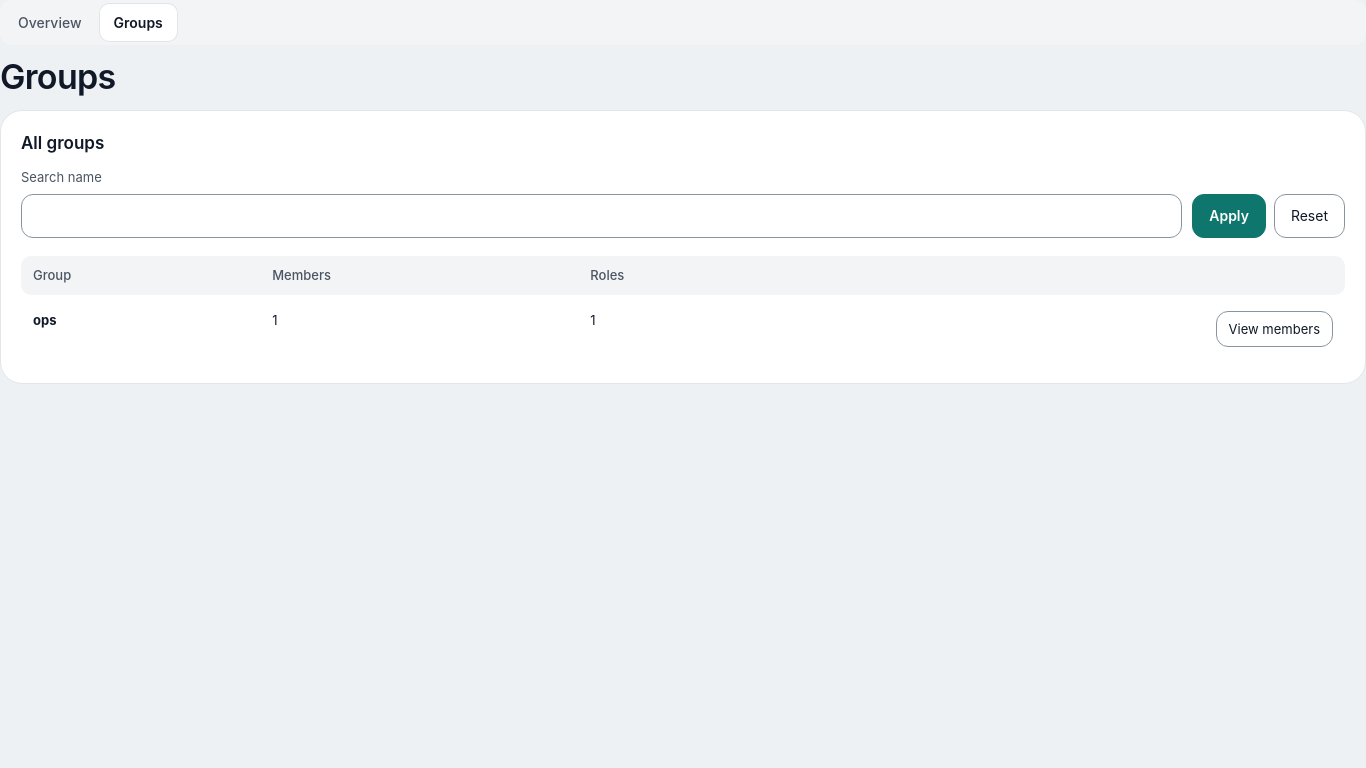
Test: IAM groups › hides write controls without iam.groups.write
Expected: the cell "ops" is shown, left=21, top=301, right=260, bottom=357
What coordinates should you click on to do the following:
click the button with aria-label "View members and roles of ops"
I would click on:
 (1274, 329)
Its box is left=1216, top=311, right=1333, bottom=347.
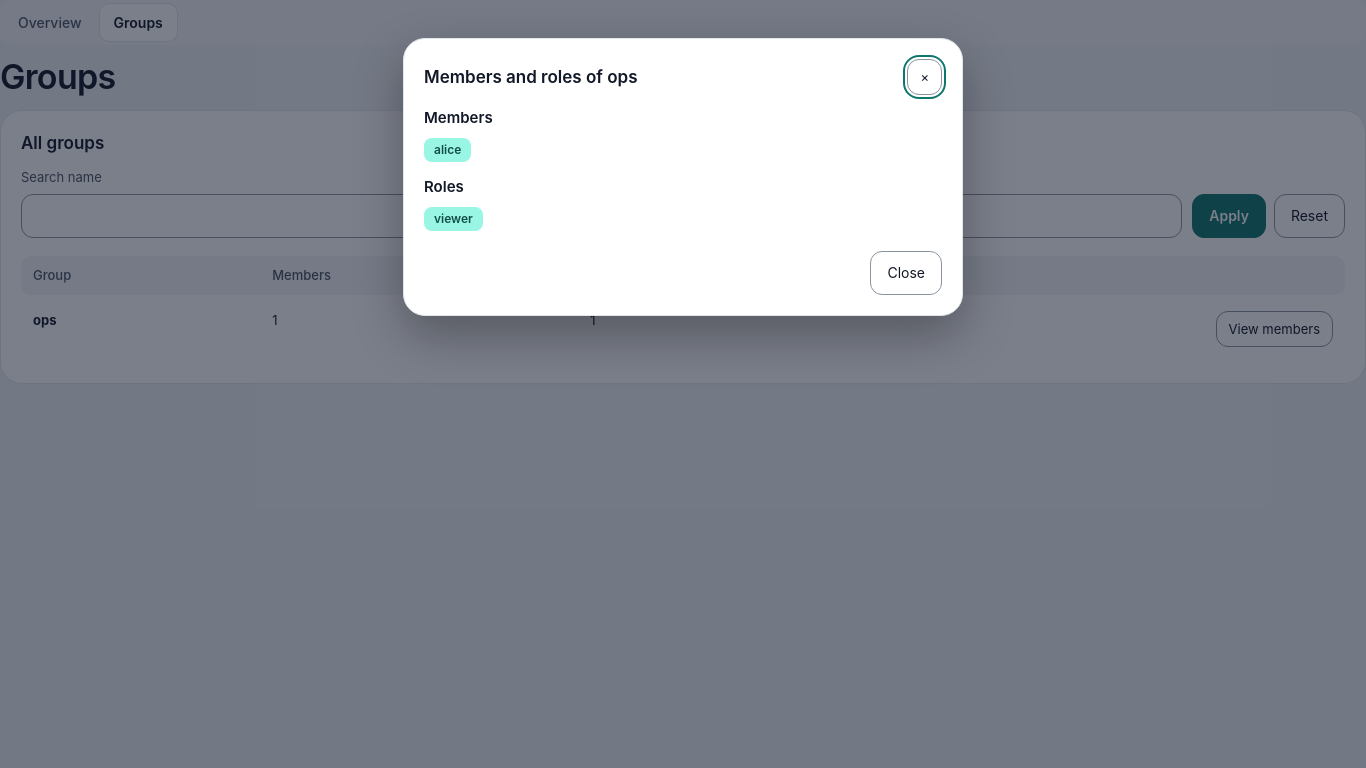
Now the text "alice" is shown, box left=424, top=138, right=471, bottom=162
